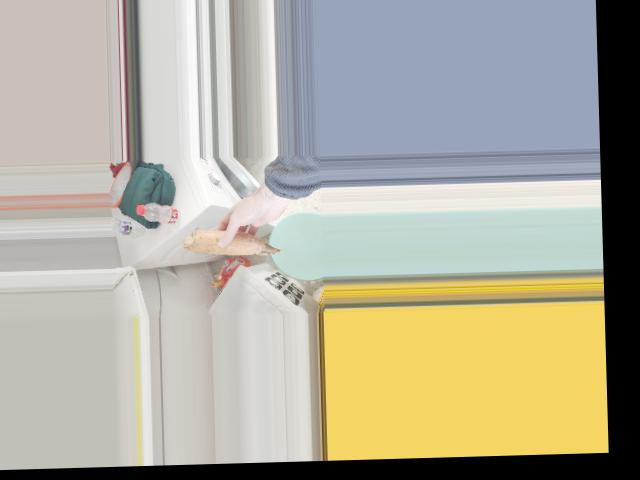sweet_potato: (186, 226, 280, 264)
